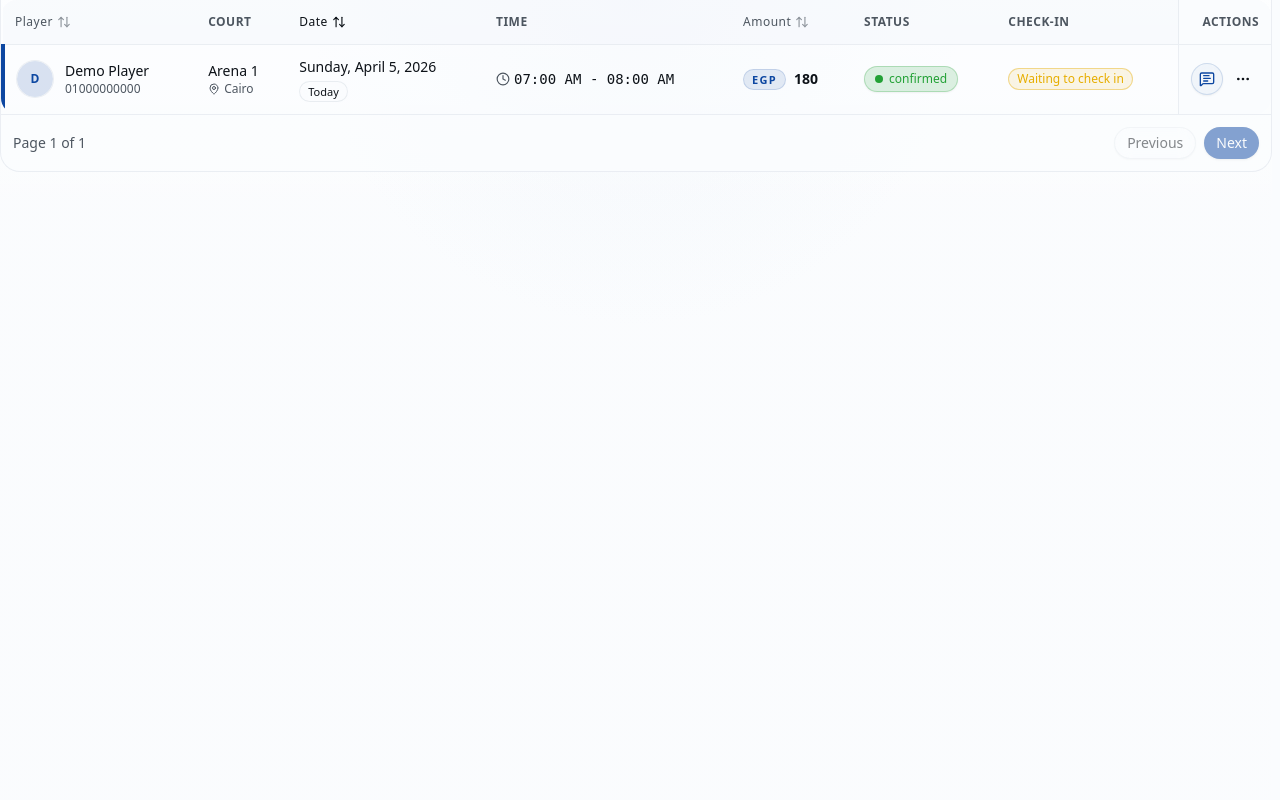
it: BookingTableView › shows an icon note trigger that opens the full note in a popover
Click the button named "show player note" at [1207, 79], box top-left (1191, 63), bottom-right (1223, 95)
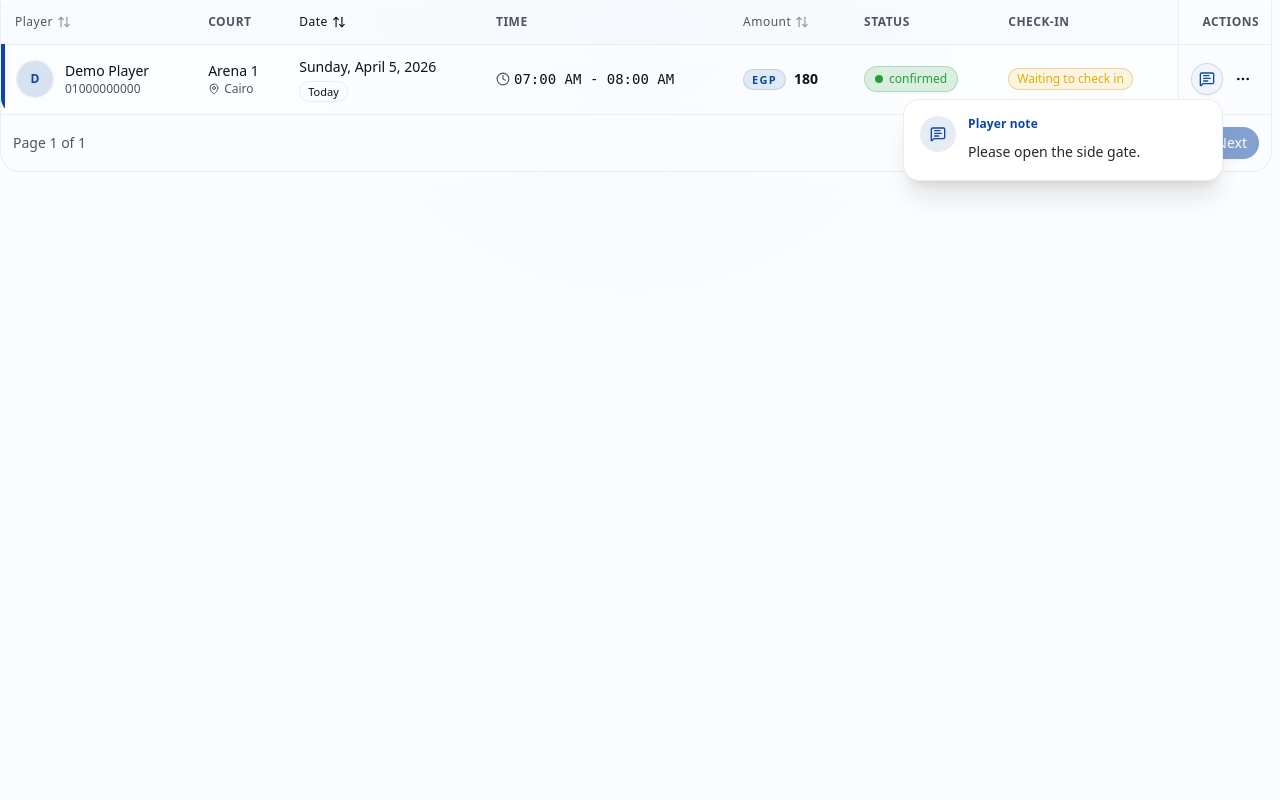
Expected: the text "Please open the side gate." is shown, top-left (968, 140), bottom-right (1140, 164)
